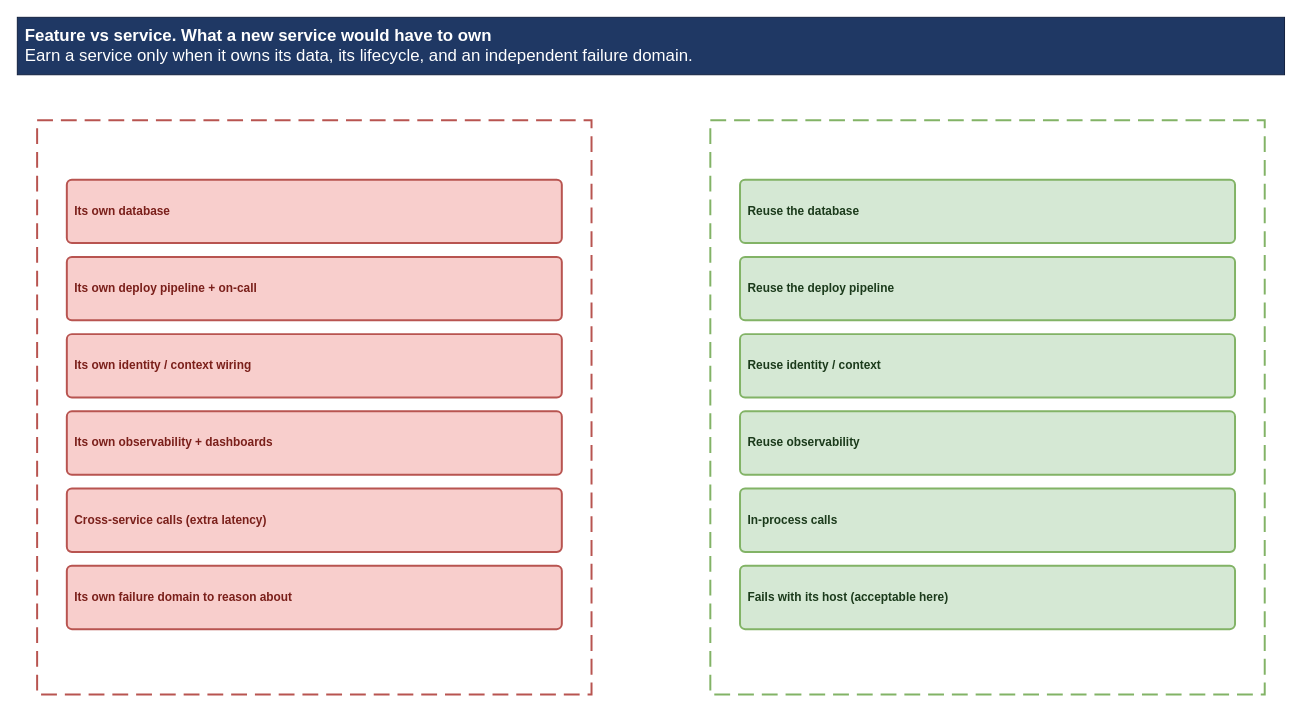
Some shapes in this 1302 by 713 pixel diagram are drawn without their labels. Each missing label, with the box of its shape:
Chosen: a module in the existing service: (709, 119, 1265, 695)
Rejected: a new microservice (to host one small table): (36, 119, 592, 695)
